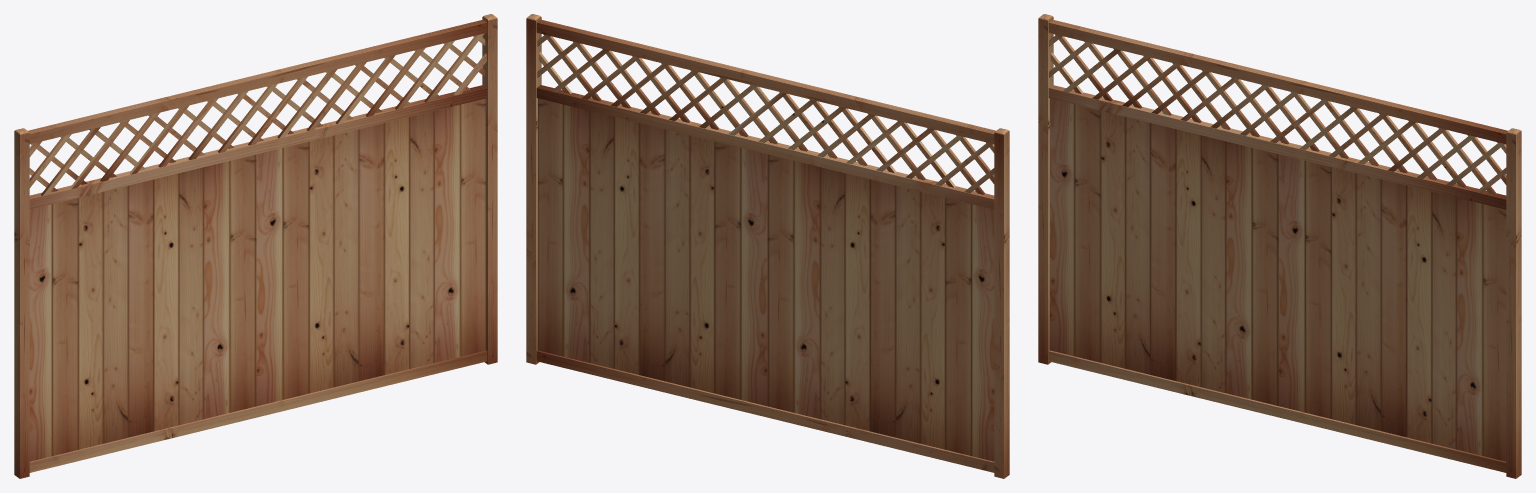
File: Cedar_Lattice_Fence_.fbx
3 renders of one model, left to right at view 1: azimuth 30°, elevation 25°; view 2: azimuth 150°, elevation 25°; view 3: azimuth 330°, elevation 25°, orthographic.
Parts seen in each view (by area): view 1: Cedar_Lattice_Fence_, Pillar_, Pillar_1; view 2: Cedar_Lattice_Fence_, Pillar_, Pillar_1; view 3: Cedar_Lattice_Fence_, Pillar_1, Pillar_.
Boxes of the visible parts, bbox=[...] form: Cedar_Lattice_Fence_: bbox=[28, 19, 487, 472]; Pillar_: bbox=[14, 128, 29, 478]; Pillar_1: bbox=[482, 14, 497, 364]; Cedar_Lattice_Fence_: bbox=[536, 19, 995, 472]; Pillar_: bbox=[994, 128, 1009, 478]; Pillar_1: bbox=[526, 14, 541, 364]; Cedar_Lattice_Fence_: bbox=[1048, 19, 1507, 472]; Pillar_1: bbox=[1506, 128, 1521, 478]; Pillar_: bbox=[1038, 14, 1053, 364].
Size of the model in its own units: 99.39 by 68.82 by 2.
1 material, 1 textured.
